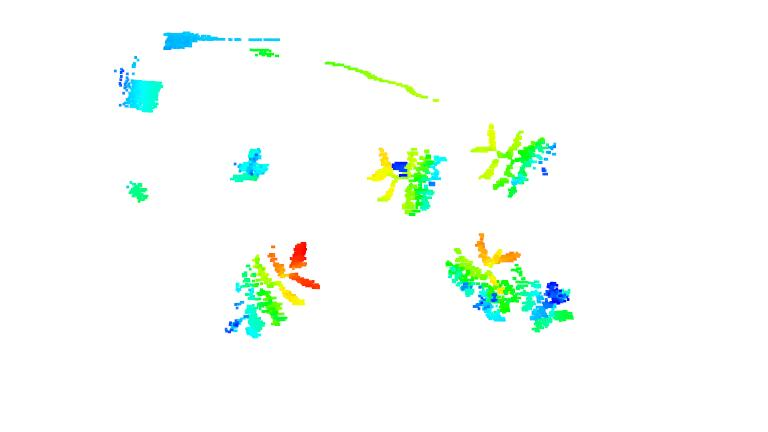chickpea: (217, 243, 321, 338), (447, 226, 521, 326), (471, 122, 560, 202), (367, 143, 446, 216), (519, 261, 579, 333), (226, 148, 270, 183), (122, 177, 152, 203)
